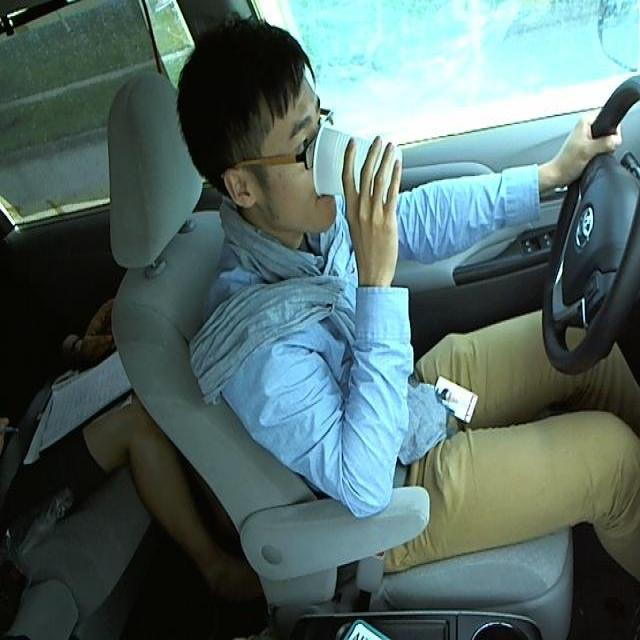drinking: (309, 116, 403, 208)
